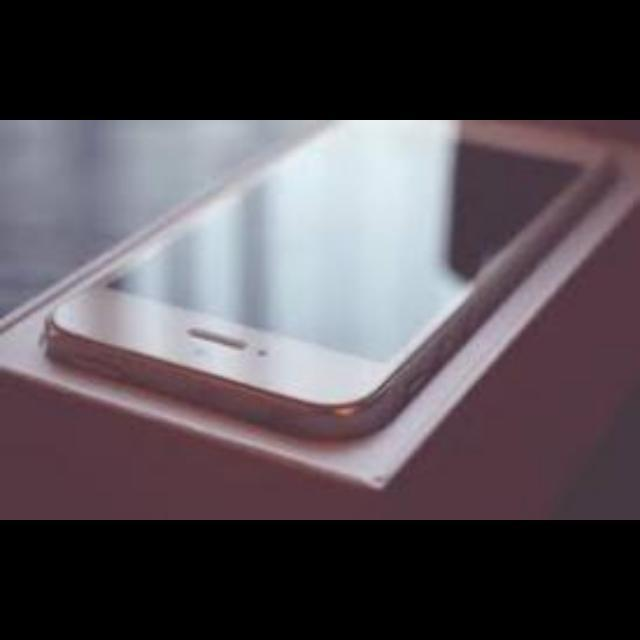phone: (66, 131, 614, 497)
